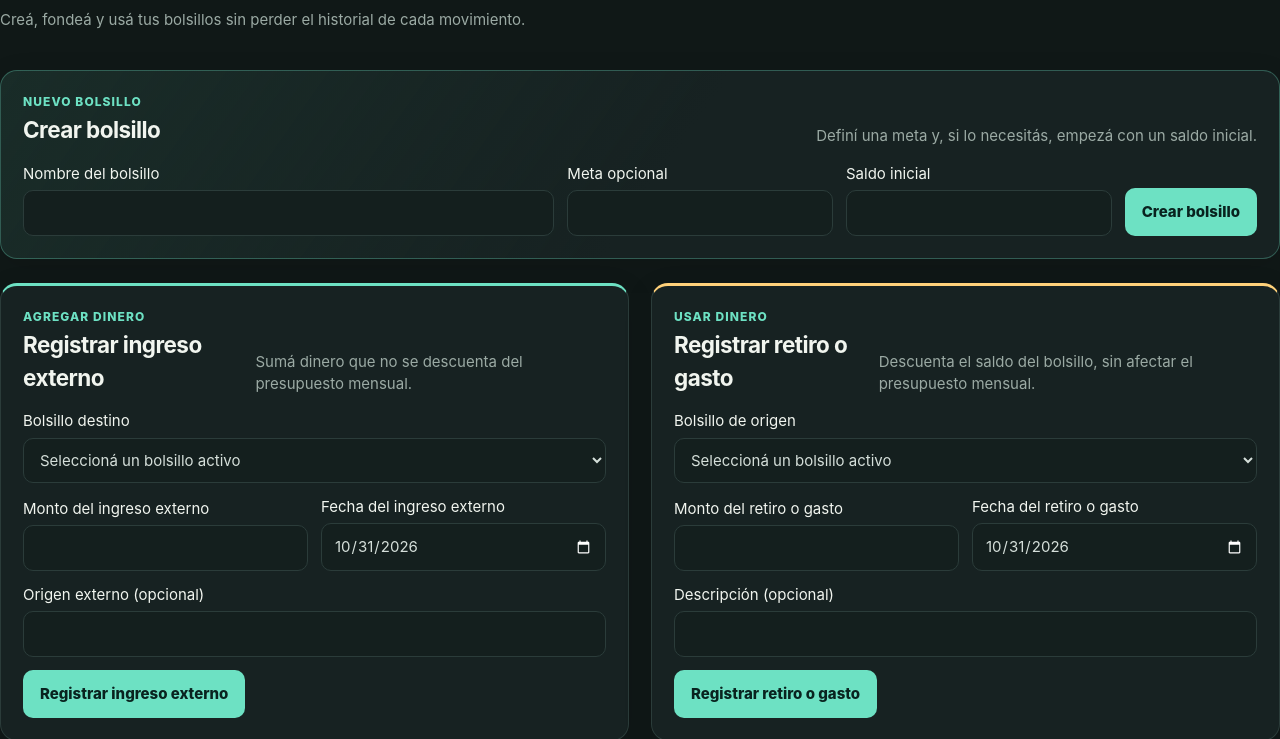
PocketsPage › submits an external deposit only from Pockets and refreshes the displayed pockets
Select "Emergencias ($250 COP)" in the dropdown labelled "Bolsillo destino": (314,460) [23,438,606,483]
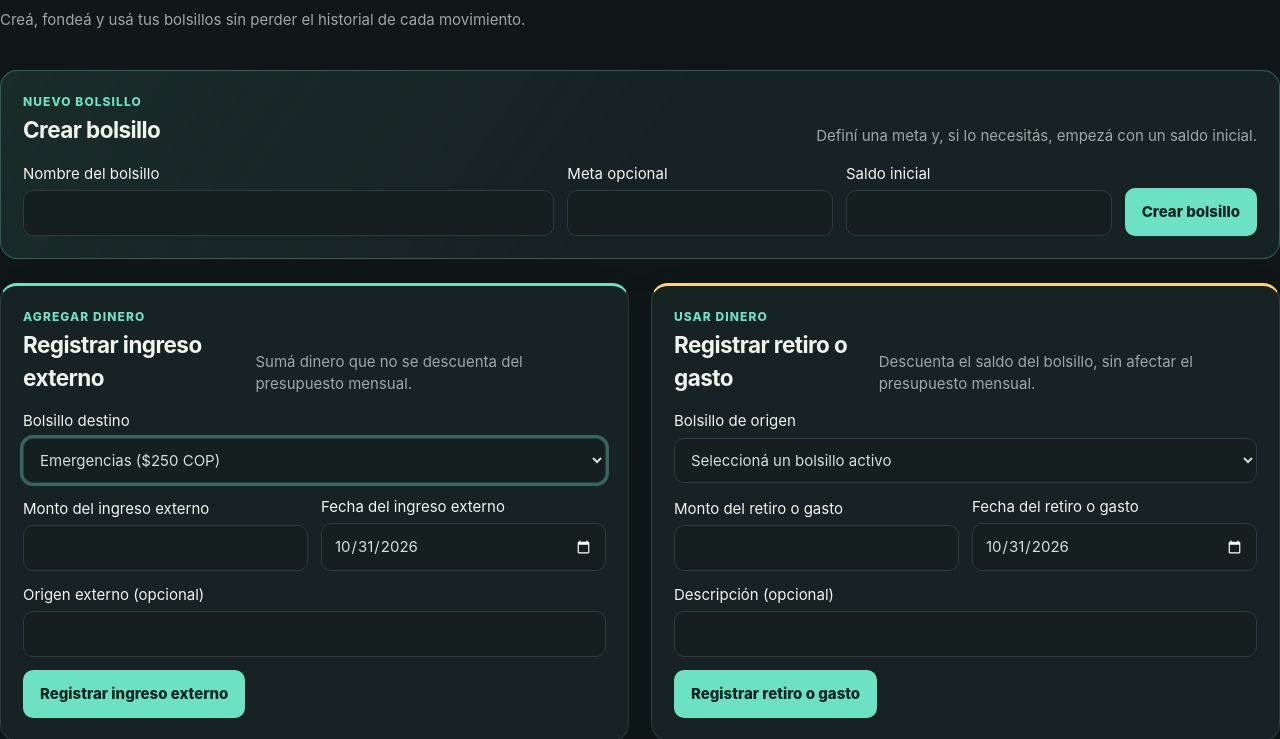
In the number field labelled "Monto del ingreso externo": (166,548) [23,525,308,571], type "125"
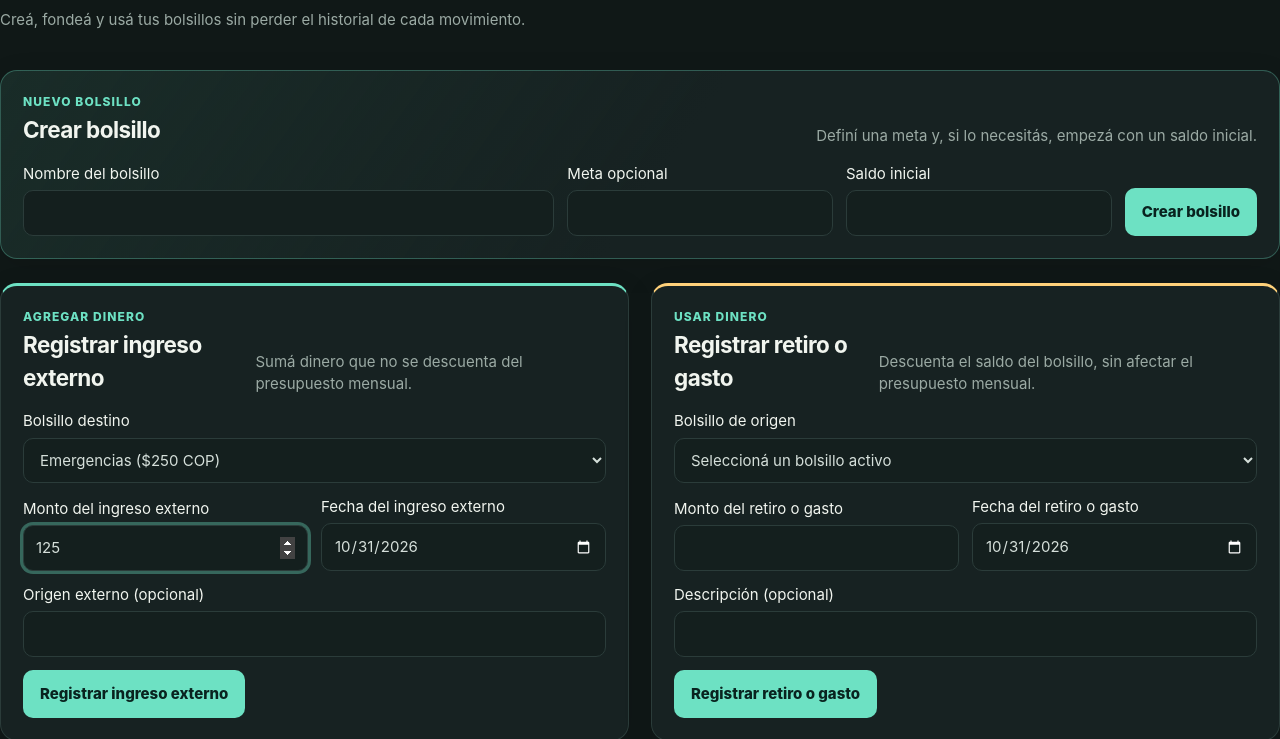
In the date field labelled "Fecha del ingreso externo": (464,547) [321,523,606,571], type "2026-05-14"
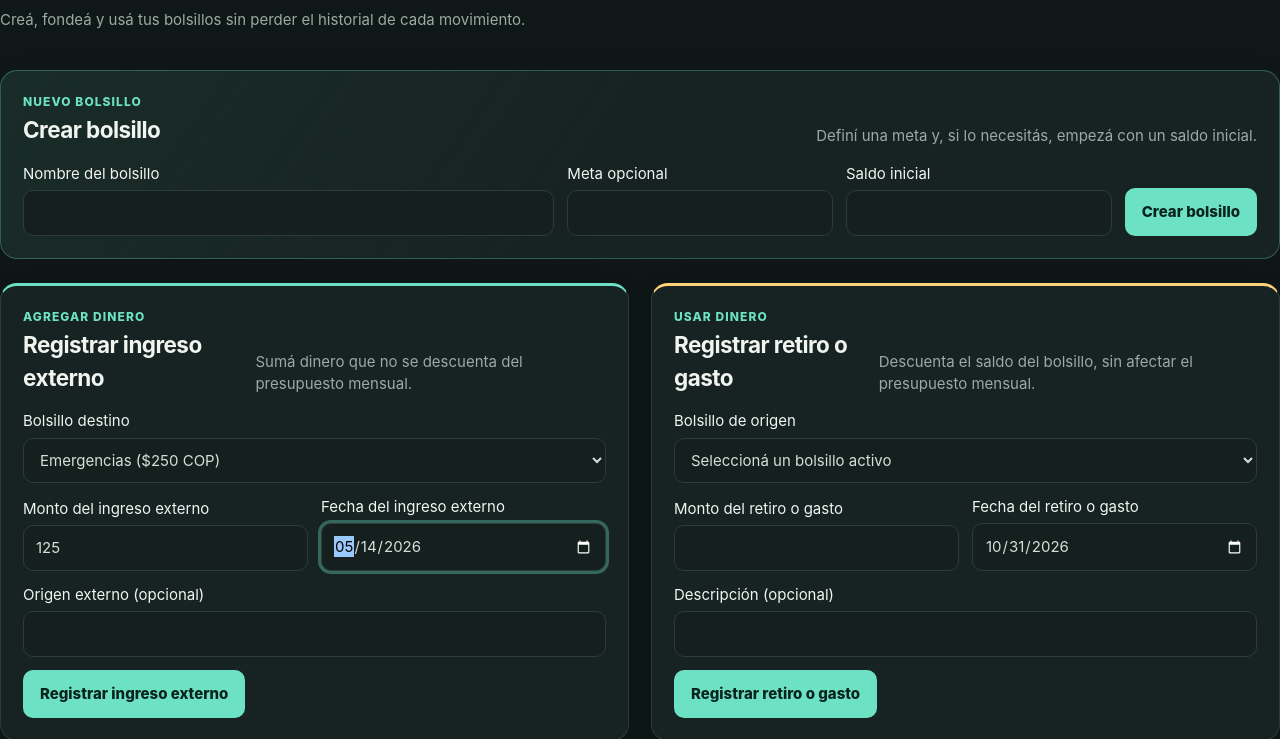
In the field labelled "Origen externo (opcional)": (314,634) [23,611,606,657], type "Employer"
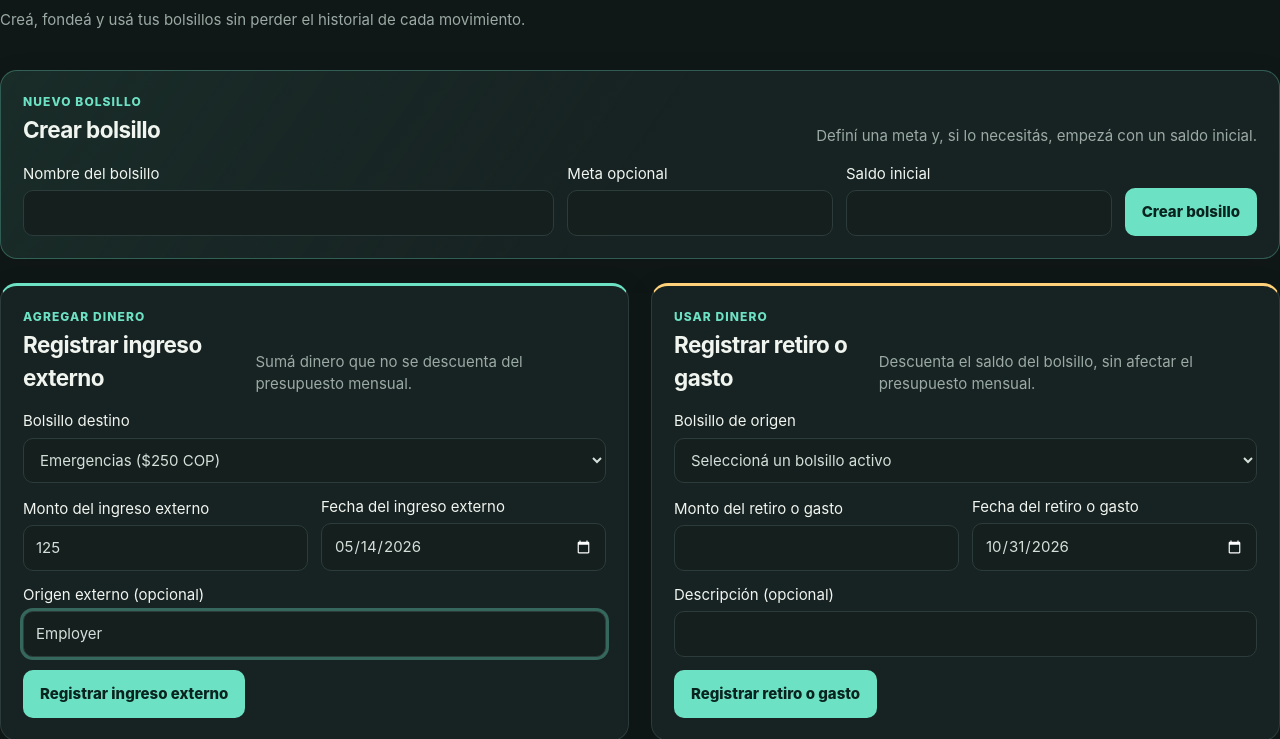
Click the button "Registrar ingreso externo": (134,694) [23,670,245,718]
(page scrolled)
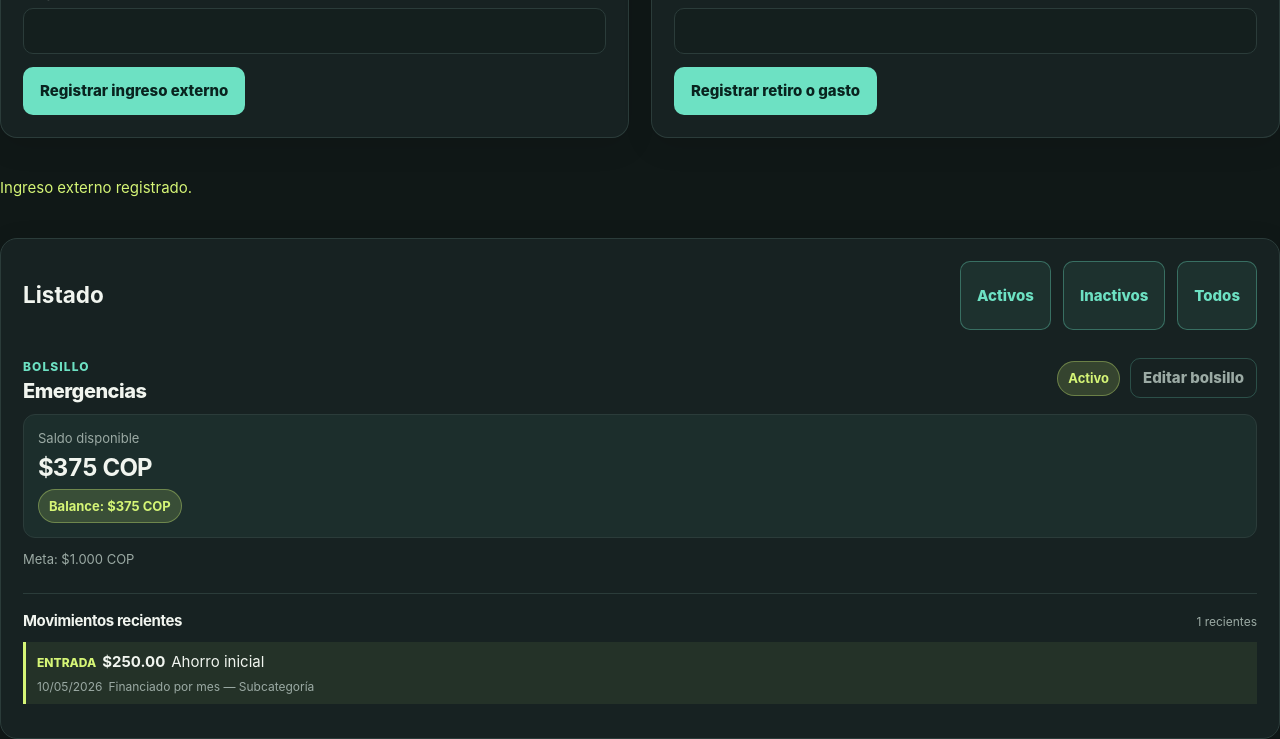
expect the text "Balance: $375 COP" is shown: met, box [38,488,182,523]
